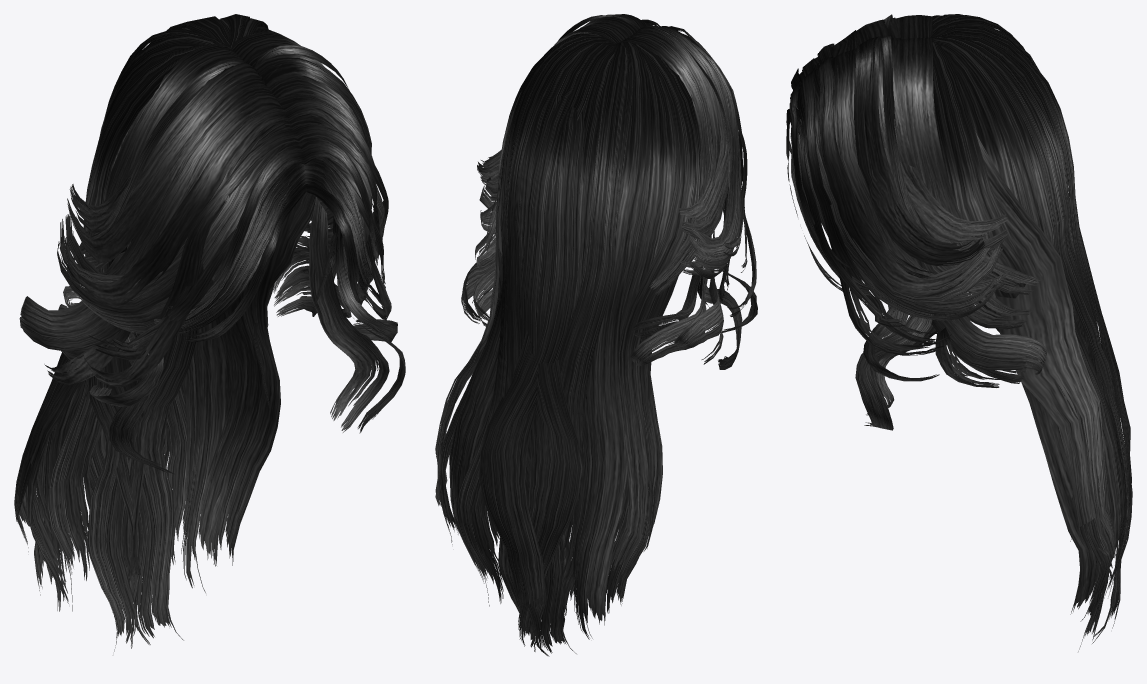
The model's file is mh_elvs_that_80s_babe_hair.glb.
3 renders of one model, left to right at view 1: azimuth 30°, elevation 25°; view 2: azimuth 150°, elevation 25°; view 3: azimuth 270°, elevation 25°, orthographic. The views are drawn at different scales.
Parts seen in each view (by area): view 1: mh_elvs_that_80s_babe_hair; view 2: mh_elvs_that_80s_babe_hair; view 3: mh_elvs_that_80s_babe_hair.
Part boxes in pixels (x1,y1,x2,y2): mh_elvs_that_80s_babe_hair: (14, 14, 405, 651); mh_elvs_that_80s_babe_hair: (435, 14, 757, 656); mh_elvs_that_80s_babe_hair: (786, 14, 1132, 651).
Size of the model in its own units: 0.2812 by 0.585 by 0.2927.
Materials: 1 (1 with a texture image).
